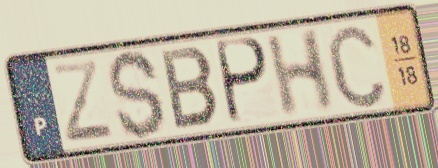B: (157, 44, 223, 132)
C: (323, 20, 390, 112)
H: (263, 25, 337, 121)
P: (215, 35, 272, 128)
S: (105, 47, 169, 142)
Z: (48, 57, 117, 146)
